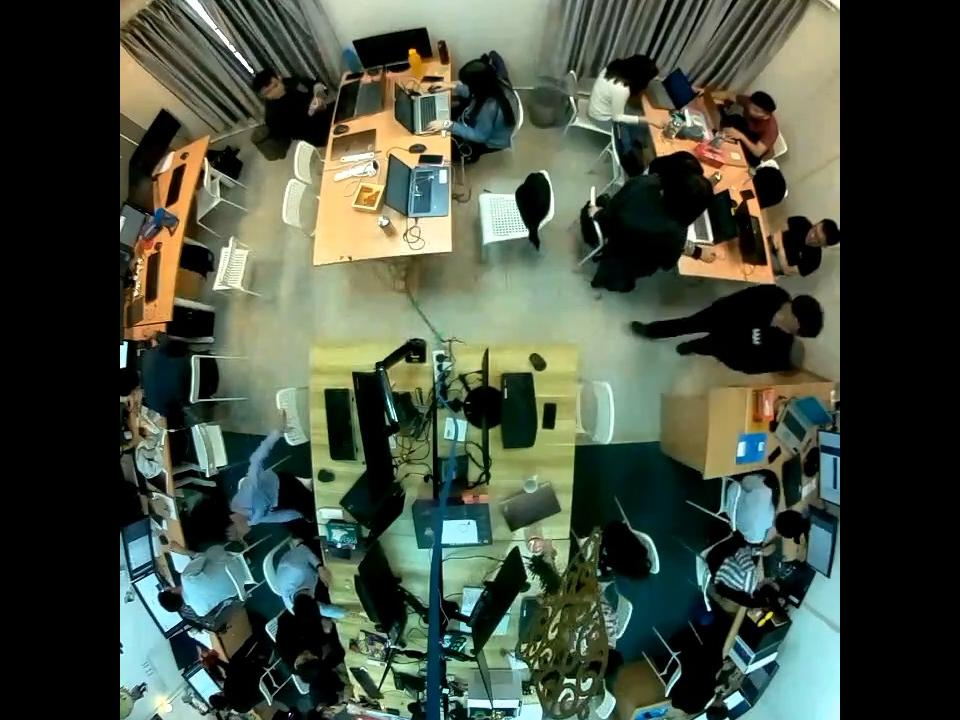name-tag: (750, 324, 764, 348)
